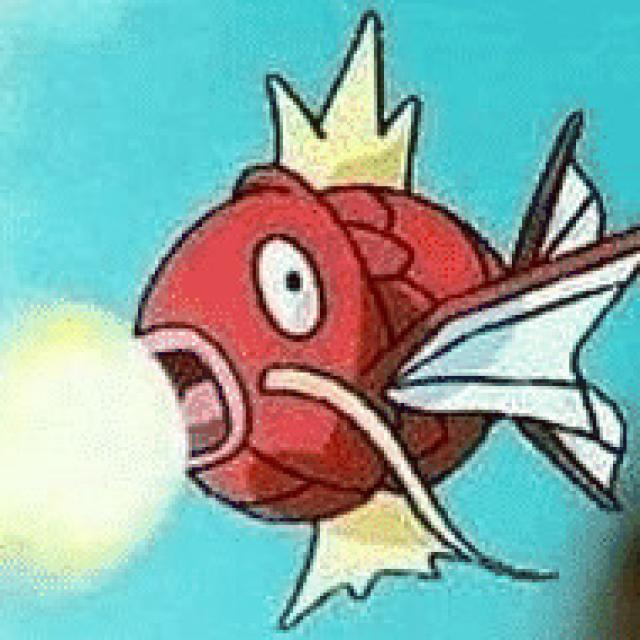Magikarp: (128, 99, 608, 556)
